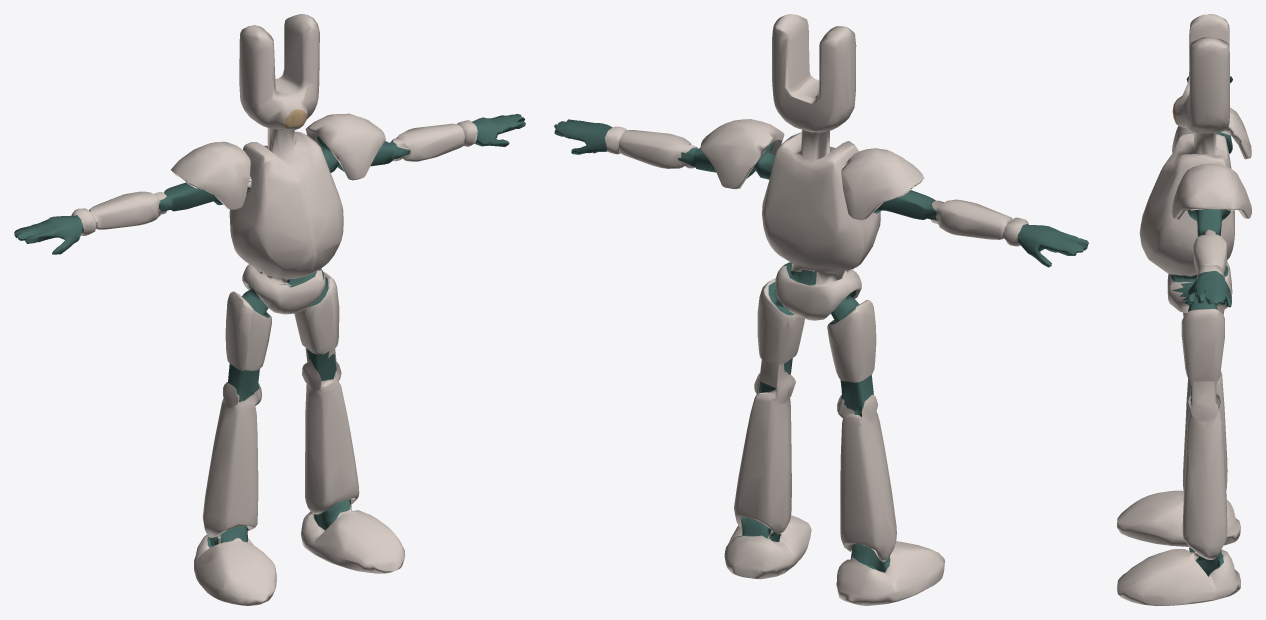
Rendered from fencer.glb.
3 views of the same model, side by side, from view 1: azimuth 30°, elevation 25°; view 2: azimuth 150°, elevation 25°; view 3: azimuth 270°, elevation 25° (orthographic). The views are drawn at different scales.
Visible parts, largest first — view 1: fencer; view 2: fencer; view 3: fencer.
Boxes of the visible parts, bbox=[...] form: fencer: bbox=[14, 14, 525, 605]; fencer: bbox=[554, 14, 1088, 605]; fencer: bbox=[1117, 14, 1251, 605].
Bounding box in the file's own units: 2.13 × 2.15 × 0.4919.
